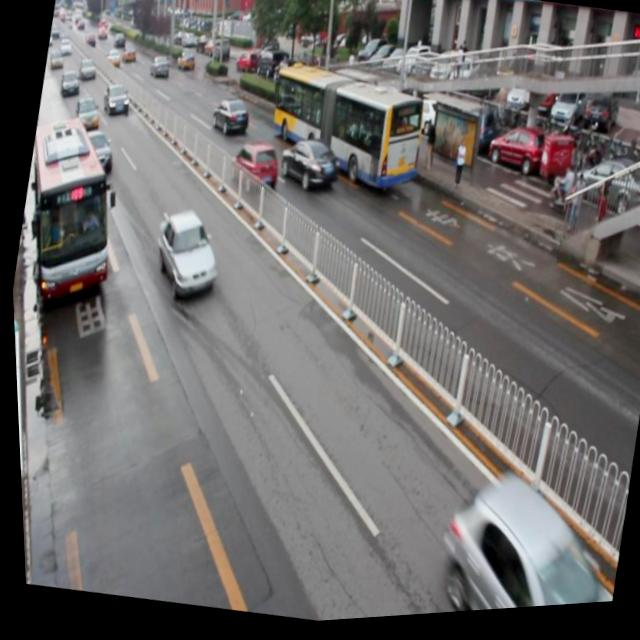car: (423, 467, 627, 619), (144, 205, 224, 306), (274, 136, 339, 199), (225, 139, 282, 199), (208, 97, 252, 144), (77, 128, 117, 174), (100, 83, 133, 121), (72, 95, 102, 133)
van: (4, 114, 134, 314), (258, 56, 430, 203)
